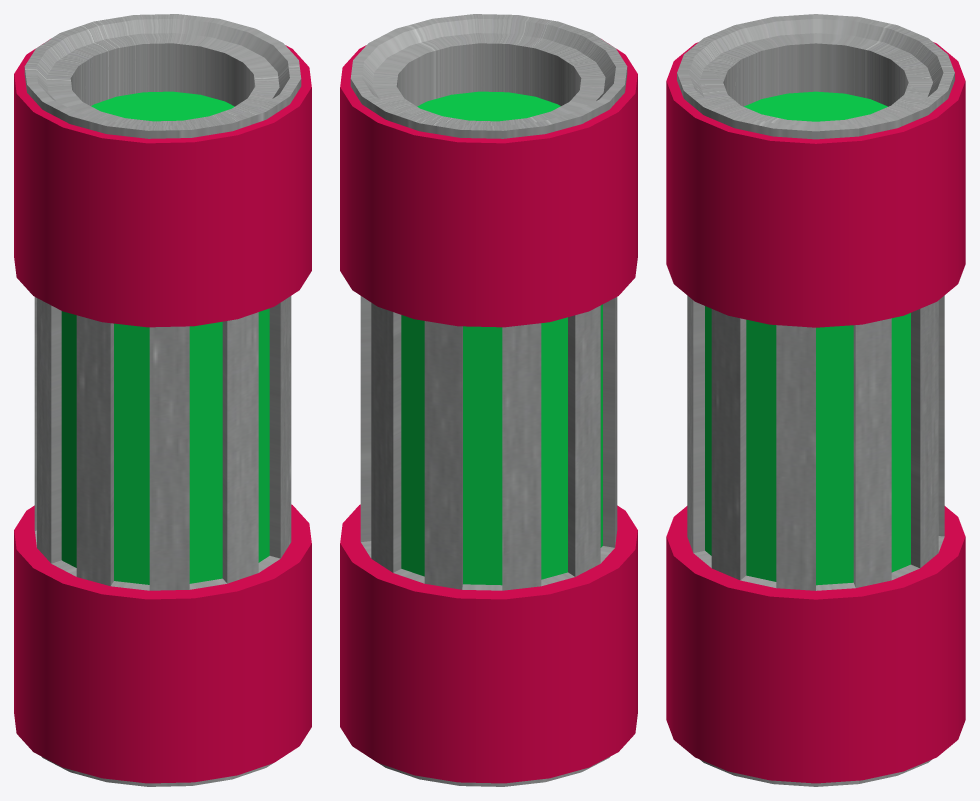
File: can.fbx
3 views of the same model, side by side, from view 1: azimuth 30°, elevation 25°; view 2: azimuth 150°, elevation 25°; view 3: azimuth 270°, elevation 25° (orthographic).
Parts seen in each view (by area): view 1: pCylinder2; view 2: pCylinder2; view 3: pCylinder2.
Boxes of the visible parts, x1,y1,x2,y2 form: pCylinder2: (14, 14, 311, 786); pCylinder2: (340, 14, 637, 786); pCylinder2: (666, 14, 965, 786).
Size of the model in its own units: 14.55 by 35.2 by 14.55.
Materials: 3 (1 with a texture image).
